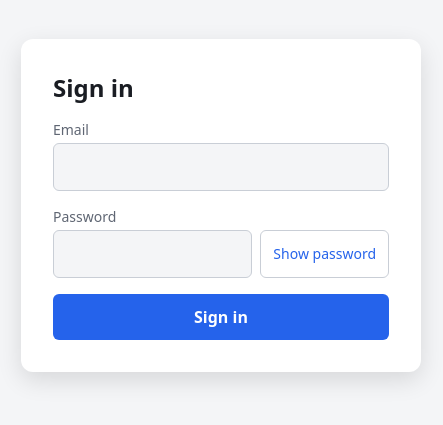
it: LoginPage › clears_field_error_on_edit
Click the button "Sign in" at {"x": 221, "y": 316}, box top-left (53, 294), bottom-right (389, 340)
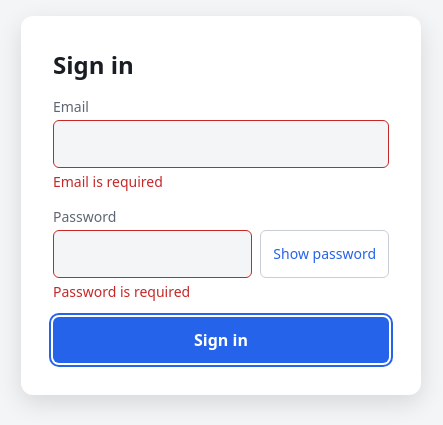
Expected: the text "Email is required" is shown, top-left (53, 172), bottom-right (163, 190)
Type "a" into the field labelled "Email" at {"x": 221, "y": 144}, box top-left (53, 120), bottom-right (389, 168)
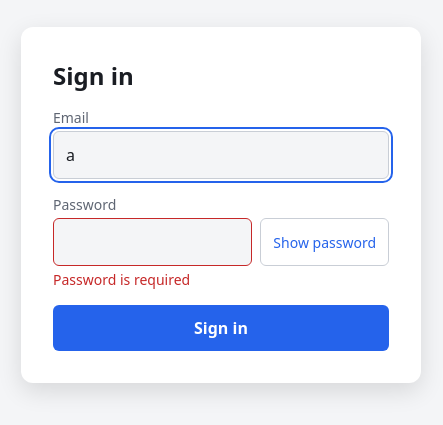
Expected: the text "Email is required" is gone
